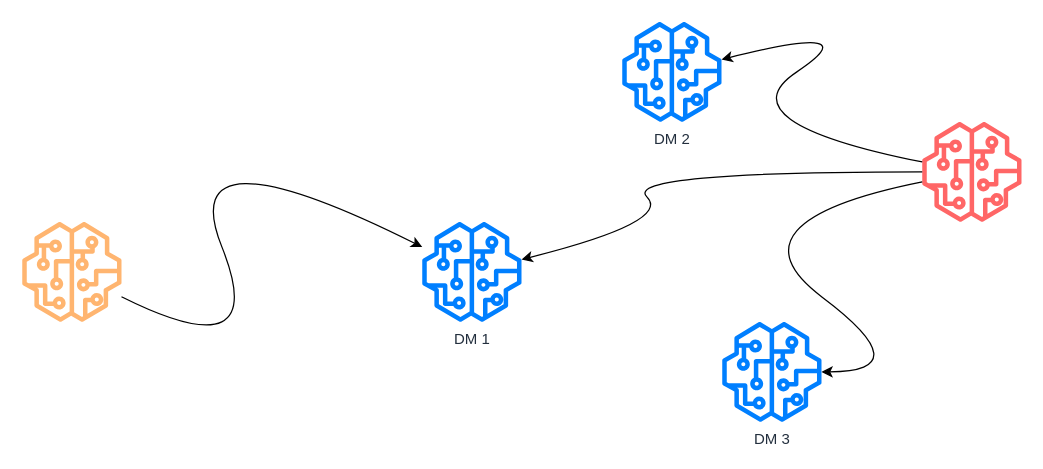
This 1043x469 diagram has some shape labels left out. The shapes that lost their labels are listed below. From the top down, each one's box as (x1, y1, x2, y2) in pixels, then its label:
(921, 121, 1021, 221): Mcp 2
(21, 221, 121, 321): Mcp 1
